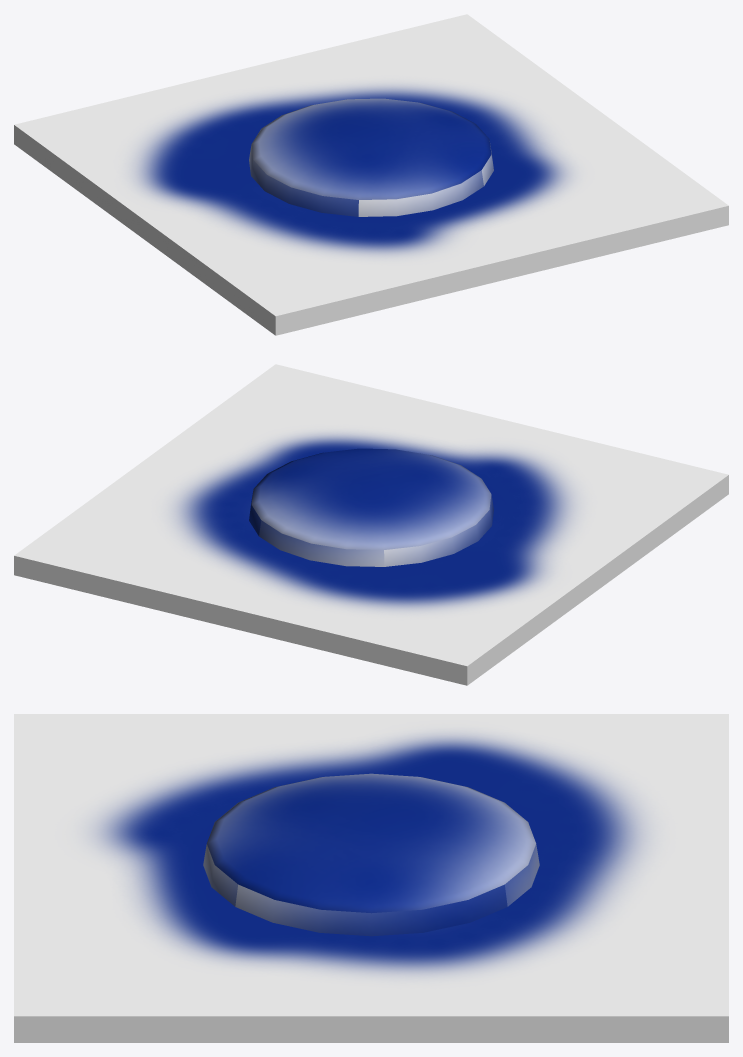
Rendered from powder.fbx.
3 renders of one model, top to bottom at view 1: azimuth 30°, elevation 25°; view 2: azimuth 150°, elevation 25°; view 3: azimuth 270°, elevation 25°, orthographic. The views are drawn at different scales.
Parts seen in each view (by area): view 1: pSphere3; view 2: pSphere3; view 3: pSphere3.
Boxes of the visible parts, bbox=[...] form: pSphere3: bbox=[14, 14, 728, 335]; pSphere3: bbox=[14, 364, 728, 685]; pSphere3: bbox=[14, 714, 728, 1042].
Bounding box in the file's own units: 4.13 × 0.4479 × 4.13.
